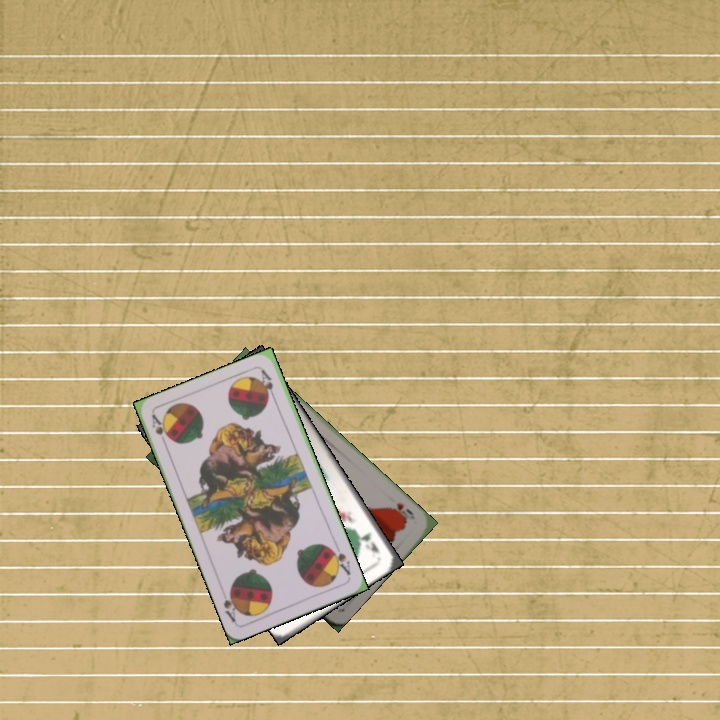GK: (357, 528, 383, 557)
HO: (385, 499, 418, 524)
SA: (325, 540, 353, 578), (147, 410, 173, 450)
